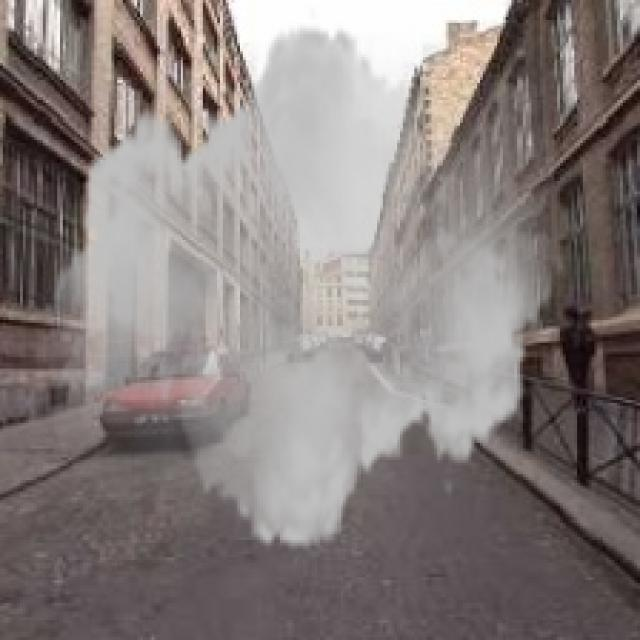Smoke: (43, 2, 566, 572)
